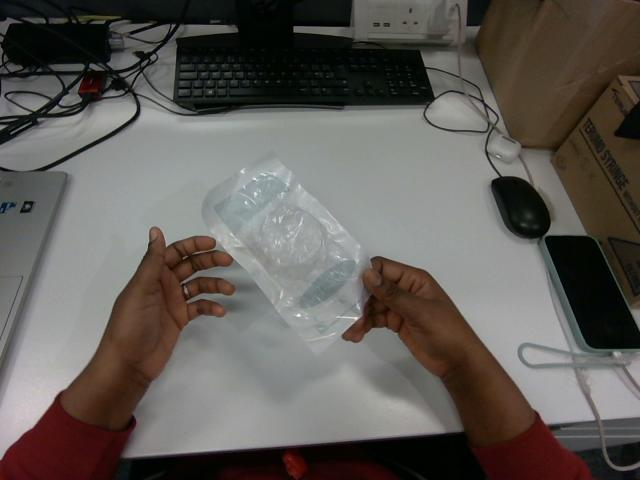gallipot: (202, 154, 369, 353)
